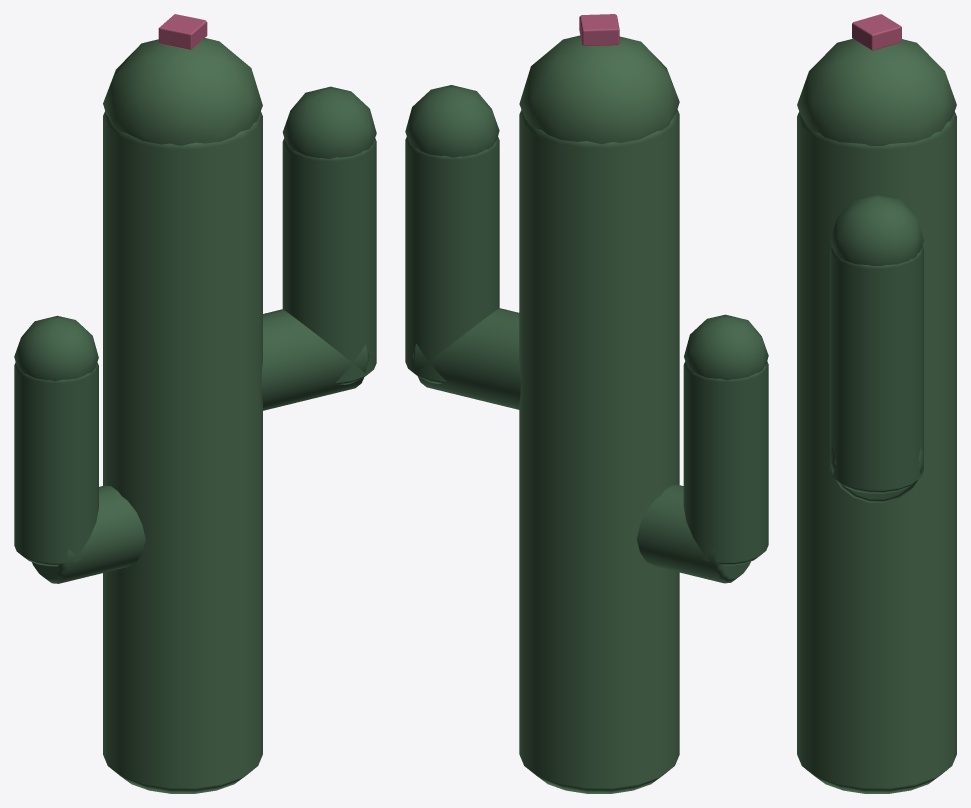
The model's file is cactus.8746c60b.glb.
3 renders of one model, left to right at view 1: azimuth 30°, elevation 25°; view 2: azimuth 150°, elevation 25°; view 3: azimuth 270°, elevation 25°, orthographic.
Visible parts, largest first — view 1: body; view 2: body; view 3: body.
Part boxes in pixels (<box>): body: <box>14,14,376,793</box>; body: <box>405,14,768,793</box>; body: <box>797,14,956,793</box>.
Size of the model in its own units: 0.86 by 1.74 by 0.34.
